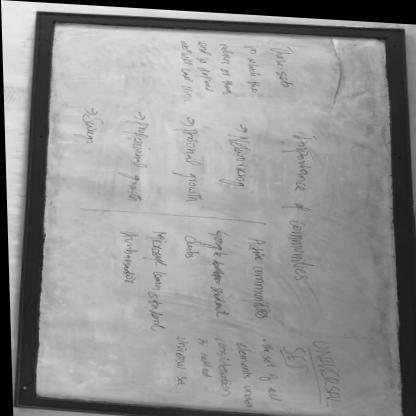Handwritten text: (276, 123, 329, 281), (112, 117, 158, 202), (139, 225, 171, 336), (168, 123, 207, 205), (202, 225, 234, 319), (243, 232, 275, 321), (214, 129, 260, 189), (307, 333, 339, 406), (266, 38, 304, 90), (213, 35, 241, 95), (112, 228, 140, 285), (256, 338, 281, 401), (233, 337, 254, 408), (67, 111, 110, 145), (211, 332, 233, 397), (167, 334, 192, 391), (241, 39, 264, 96), (191, 35, 214, 90), (192, 335, 213, 380), (281, 342, 312, 370), (180, 231, 201, 259)
